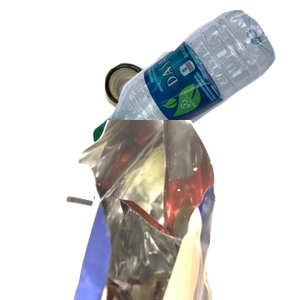glass: (90, 148, 300, 300)
metal: (102, 60, 252, 169)
plastic: (90, 10, 300, 156)
trash: (63, 120, 300, 300)
